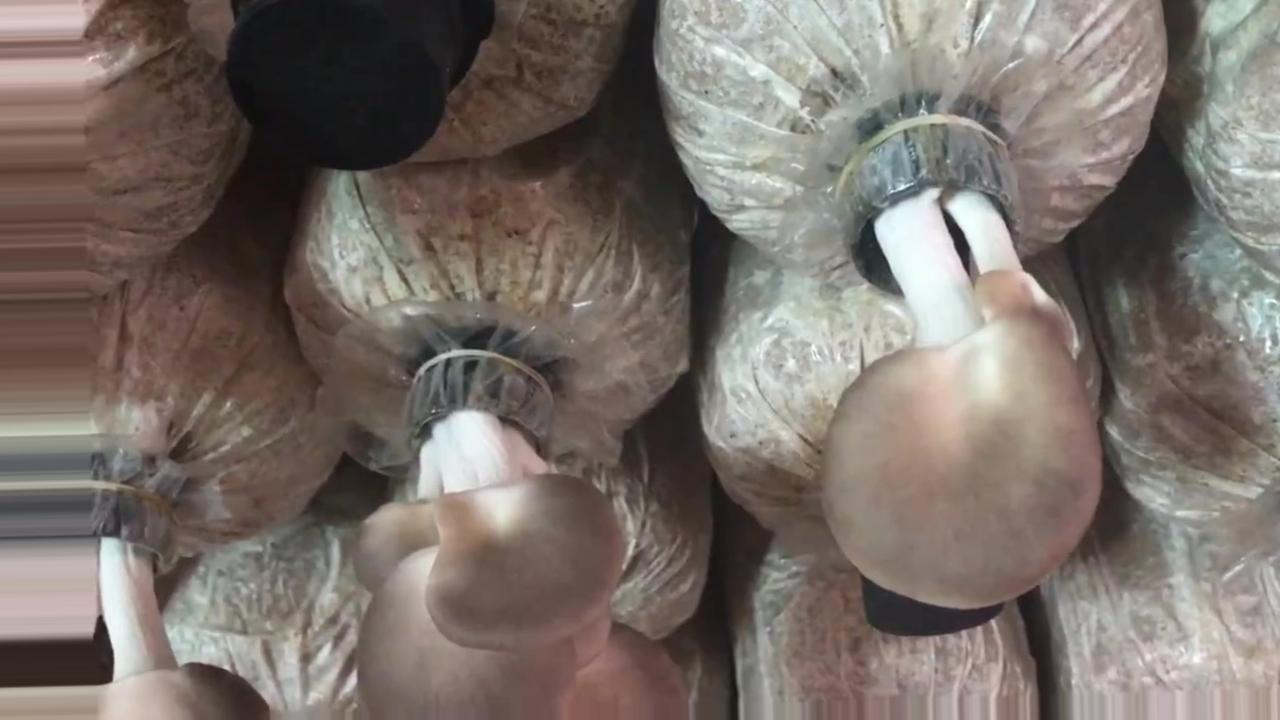nam: (822, 123, 1098, 605), (357, 353, 688, 720), (1, 463, 266, 715)
